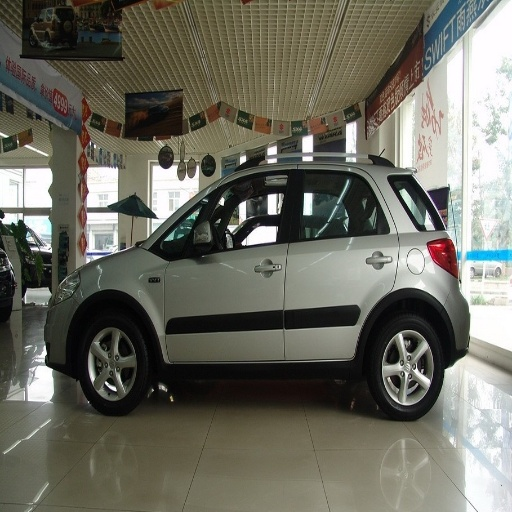back_left_door: (285, 168, 398, 358)
front_left_door: (166, 171, 294, 359)
